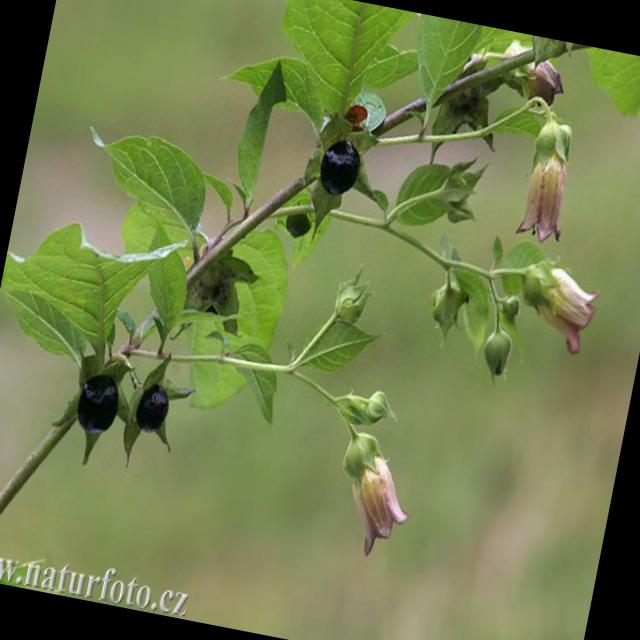Poisonous-Deadly_Nightshade: (192, 0, 640, 370), (0, 125, 305, 528), (240, 305, 488, 583)
